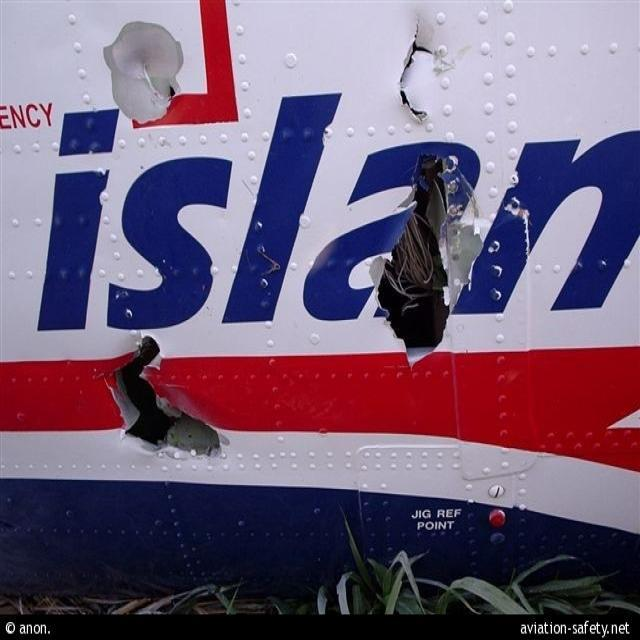crack: (375, 152, 483, 366), (104, 336, 229, 463), (393, 20, 443, 132), (139, 56, 190, 110)
